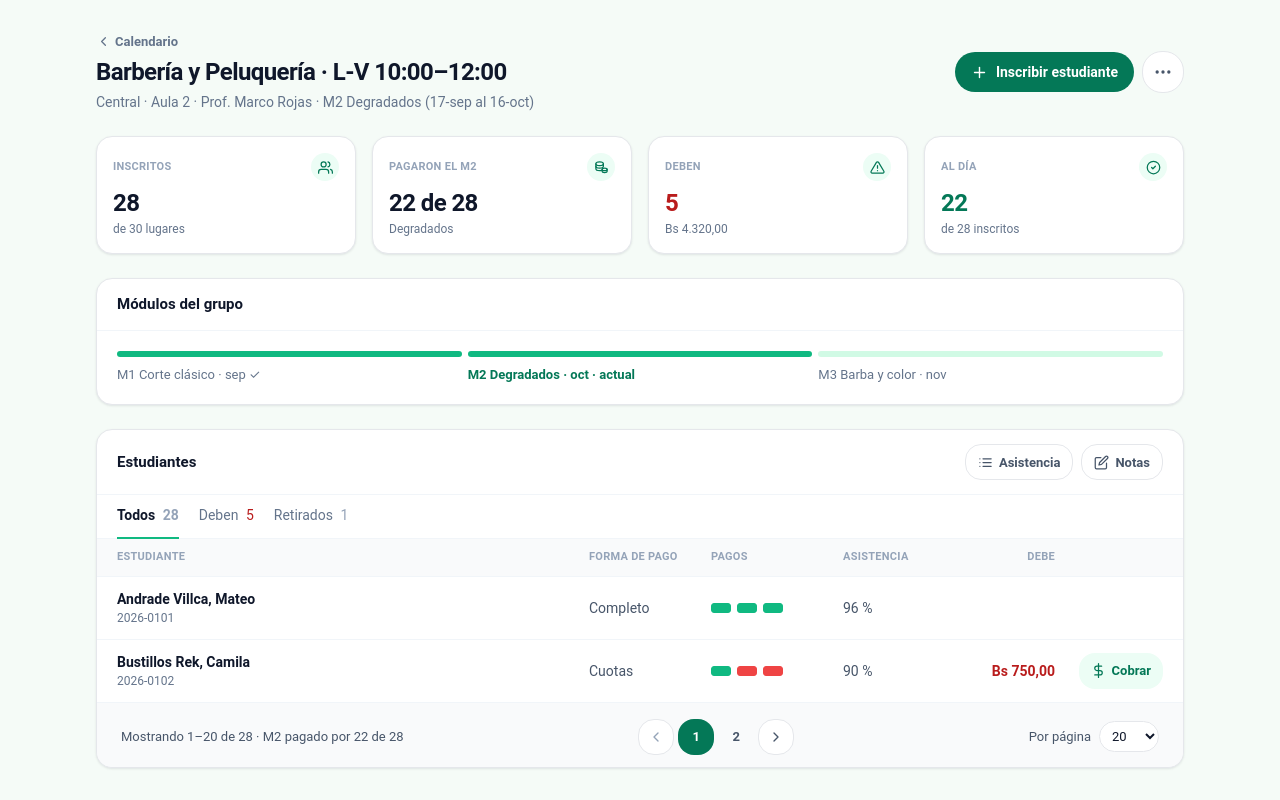
Test: E3 · detalle de grupo › recepción, que no carga notas, ve "Ver notas" en el menú y no "Cargar notas" (QA ronda 2, B-05)
Click the button named "Más acciones del grupo" at [1163, 72], box [1142, 51, 1184, 93]
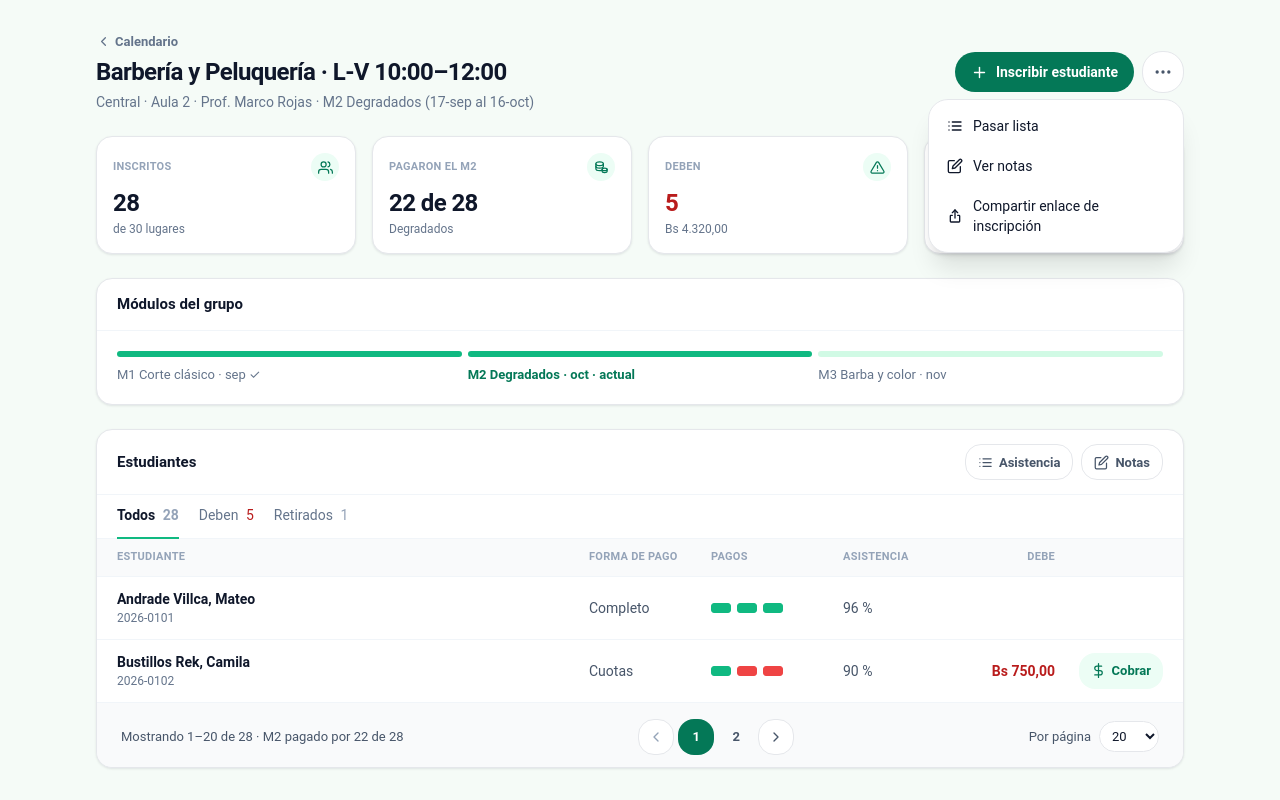
Expected: the menu item "Ver notas" is shown, [935, 146, 1177, 186]
